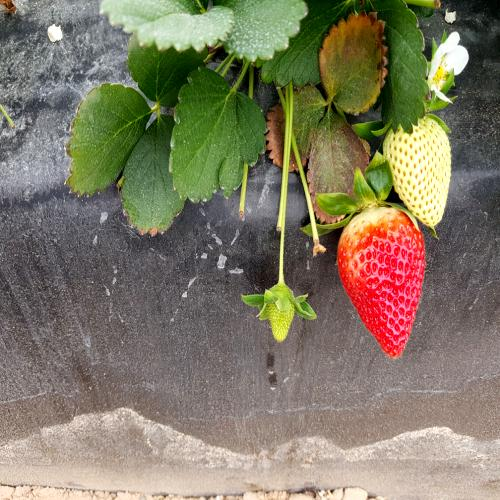ripe: (335, 199, 424, 368)
unripe: (383, 110, 455, 228)
